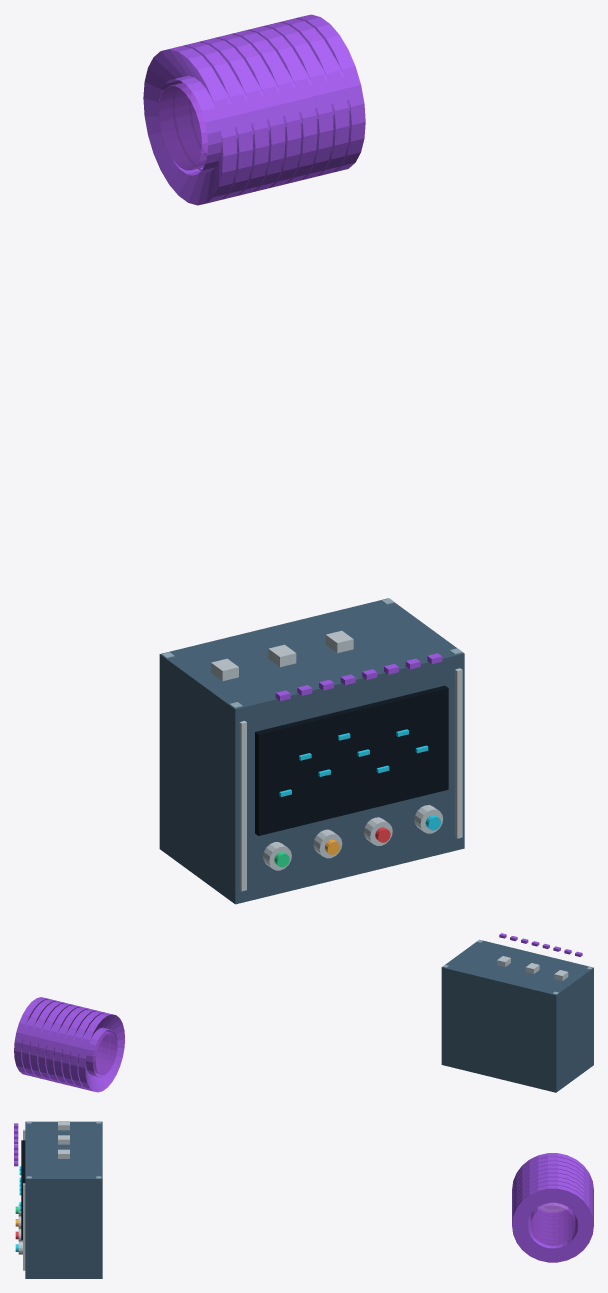
File: 05_L75_IonSourceEmissionModule.fbx
3 views of the same model, one above another, from view 1: azimuth 30°, elevation 25°; view 2: azimuth 150°, elevation 25°; view 3: azimuth 270°, elevation 25° (orthographic). The views are drawn at different scales.
Parts seen in each view (by area): view 1: IonSourceEmissionModule, IonSourceEmissionModule_Part_0028, IonSourceEmissionModule_Part_0037, IonSourceEmissionModule_Part_0029, IonSourceEmissionModule_Part_0036, IonSourceEmissionModule_Part_0035, IonSourceEmissionModule_Part_0034, IonSourceEmissionModule_Part_0030, IonSourceEmissionModule_Part_0031, IonSourceEmissionModule_Part_0033, IonSourceEmissionModule_Part_0032; view 2: IonSourceEmissionModule, IonSourceEmissionModule_Part_0028, IonSourceEmissionModule_Part_0037, IonSourceEmissionModule_Part_0029, IonSourceEmissionModule_Part_0035, IonSourceEmissionModule_Part_0036, IonSourceEmissionModule_Part_0031, IonSourceEmissionModule_Part_0030, IonSourceEmissionModule_Part_0033, IonSourceEmissionModule_Part_0032, IonSourceEmissionModule_Part_0034; view 3: IonSourceEmissionModule, IonSourceEmissionModule_Part_0036, IonSourceEmissionModule_Part_0037, IonSourceEmissionModule_Part_0035, IonSourceEmissionModule_Part_0034, IonSourceEmissionModule_Part_0033, IonSourceEmissionModule_Part_0032, IonSourceEmissionModule_Part_0031, IonSourceEmissionModule_Part_0030, IonSourceEmissionModule_Part_0029, IonSourceEmissionModule_Part_0028.
Boxes of the visible parts, x1,y1,x2,y2 form: IonSourceEmissionModule: [159, 598, 464, 904]; IonSourceEmissionModule_Part_0028: [143, 46, 237, 205]; IonSourceEmissionModule_Part_0037: [158, 82, 207, 170]; IonSourceEmissionModule_Part_0029: [177, 42, 253, 199]; IonSourceEmissionModule_Part_0036: [290, 14, 365, 172]; IonSourceEmissionModule_Part_0035: [275, 18, 349, 176]; IonSourceEmissionModule_Part_0034: [260, 22, 333, 180]; IonSourceEmissionModule_Part_0030: [197, 38, 269, 195]; IonSourceEmissionModule_Part_0031: [212, 34, 285, 192]; IonSourceEmissionModule_Part_0033: [245, 26, 317, 184]; IonSourceEmissionModule_Part_0032: [230, 30, 301, 188]; IonSourceEmissionModule: [441, 933, 593, 1092]; IonSourceEmissionModule_Part_0028: [78, 1012, 124, 1092]; IonSourceEmissionModule_Part_0037: [92, 1031, 117, 1074]; IonSourceEmissionModule_Part_0029: [70, 1010, 107, 1089]; IonSourceEmissionModule_Part_0035: [22, 999, 56, 1077]; IonSourceEmissionModule_Part_0036: [14, 997, 48, 1075]; IonSourceEmissionModule_Part_0031: [54, 1007, 88, 1085]; IonSourceEmissionModule_Part_0030: [62, 1008, 96, 1087]; IonSourceEmissionModule_Part_0033: [38, 1003, 73, 1081]; IonSourceEmissionModule_Part_0032: [46, 1005, 81, 1083]; IonSourceEmissionModule_Part_0034: [30, 1001, 64, 1079]; IonSourceEmissionModule: [14, 1121, 102, 1278]; IonSourceEmissionModule_Part_0036: [512, 1185, 593, 1262]; IonSourceEmissionModule_Part_0037: [530, 1202, 575, 1245]; IonSourceEmissionModule_Part_0035: [512, 1181, 593, 1238]; IonSourceEmissionModule_Part_0034: [512, 1177, 593, 1229]; IonSourceEmissionModule_Part_0033: [512, 1173, 593, 1224]; IonSourceEmissionModule_Part_0032: [512, 1169, 593, 1220]; IonSourceEmissionModule_Part_0031: [512, 1165, 593, 1216]; IonSourceEmissionModule_Part_0030: [512, 1161, 593, 1200]; IonSourceEmissionModule_Part_0029: [512, 1157, 593, 1196]; IonSourceEmissionModule_Part_0028: [512, 1153, 593, 1192].
Bounding box in the file's own units: 240 × 136 × 389.
